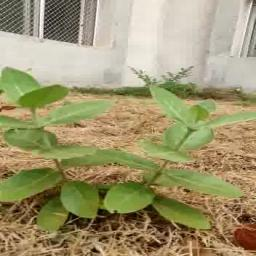CALOTROPIS: (2, 66, 244, 232)
